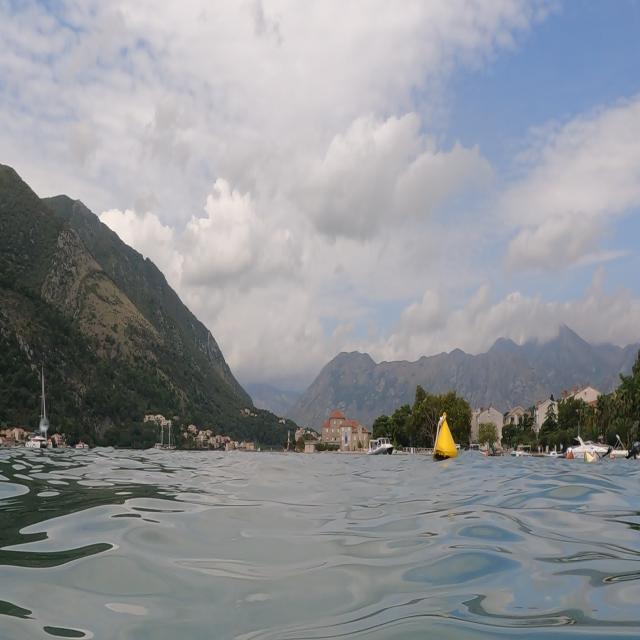boat: (19, 356, 61, 460), (558, 426, 612, 466), (358, 426, 402, 464)
buoy: (430, 408, 460, 468)
